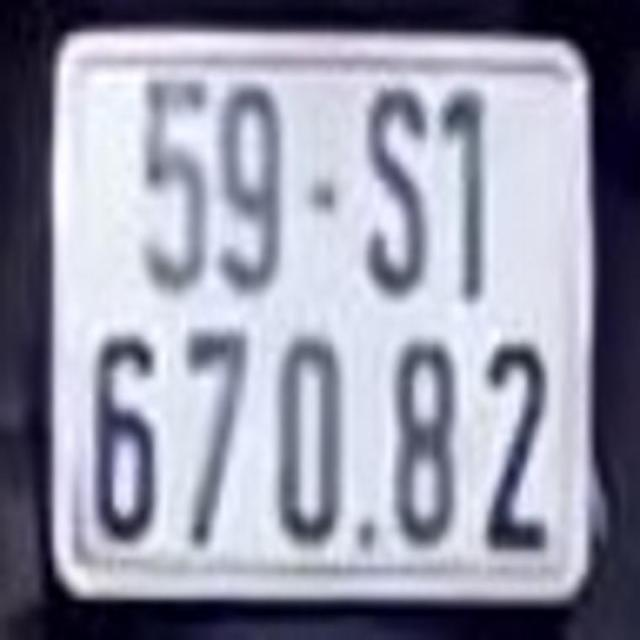0: (279, 330, 341, 548)
1: (439, 91, 492, 296)
2: (485, 343, 555, 548)
5: (136, 75, 210, 288)
6: (80, 334, 164, 548)
7: (176, 330, 245, 549)
8: (392, 330, 454, 544)
9: (219, 82, 280, 296)
S: (362, 88, 426, 297)
